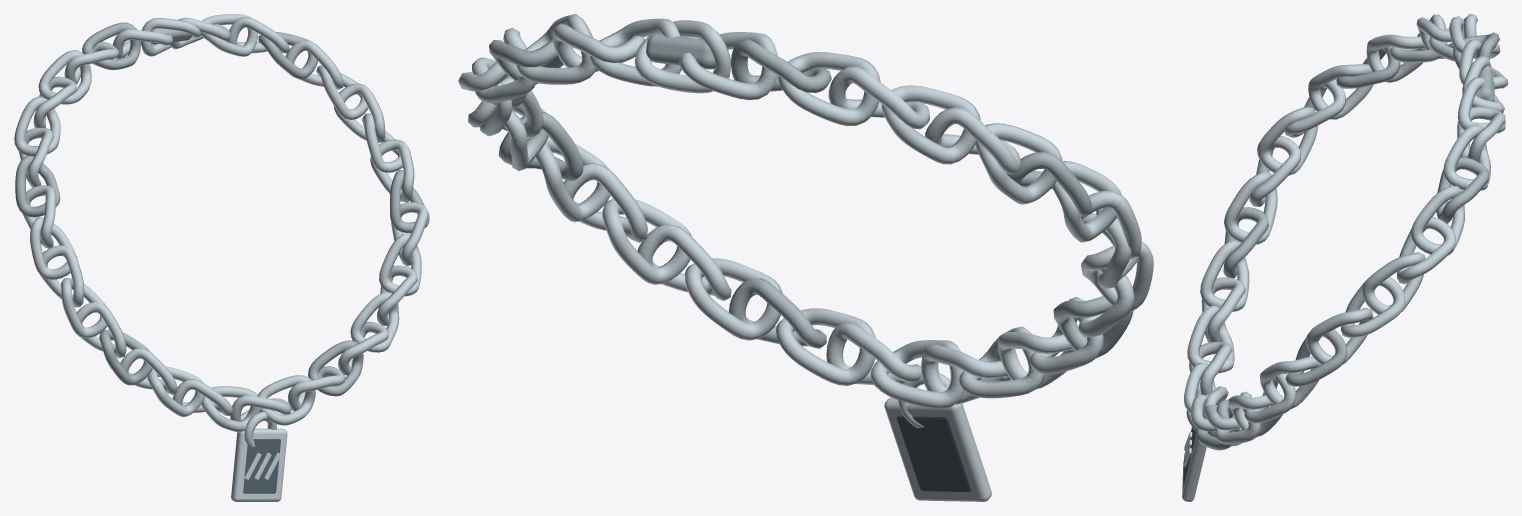
File: chain.glb
The picture shows the model from 3 angles, left to right: view 1: azimuth 30°, elevation 25°; view 2: azimuth 150°, elevation 25°; view 3: azimuth 270°, elevation 25°; orthographic projection. The views are drawn at different scales.
Parts seen in each view (by area): view 1: Polished nickel 40, Cast graphite titanium 41, Curb link 04, Curb link 02, Curb link 26, Curb link 30, Curb link 22, Curb link 28, Curb link 11, Curb link 24, Curb link 13, Curb link 34 (+28 smaller); view 2: Polished nickel 40, Cast graphite titanium 41, Curb link 23, Curb link 03, Curb link 25, Curb link 05, Curb link 07, Curb link 27, Curb link 20, Curb link 01, Curb link 24, Curb link 06 (+29 smaller); view 3: Curb link 31, Curb link 33, Curb link 12, Curb link 11, Curb link 29, Curb link 13, Curb link 14, Curb link 15, Curb link 35, Curb link 16, Curb link 10, Curb link 09 (+28 smaller).
Part boxes in pixels (left/top/right/bottom): Polished nickel 40: left=231, top=428, right=287, bottom=501; Cast graphite titanium 41: left=243, top=438, right=280, bottom=493; Curb link 04: left=308, top=340, right=363, bottom=396; Curb link 02: left=258, top=375, right=315, bottom=425; Curb link 26: left=14, top=96, right=60, bottom=156; Curb link 30: left=29, top=217, right=77, bottom=279; Curb link 22: left=82, top=22, right=140, bottom=70; Curb link 28: left=15, top=155, right=60, bottom=217; Curb link 11: left=370, top=139, right=414, bottom=202; Curb link 24: left=38, top=50, right=91, bottom=104; Curb link 13: left=333, top=83, right=385, bottom=142; Curb link 34: left=99, top=329, right=152, bottom=385; Polished nickel 40: left=884, top=397, right=991, bottom=501; Cast graphite titanium 41: left=897, top=416, right=971, bottom=492; Curb link 23: left=778, top=52, right=880, bottom=126; Curb link 03: left=776, top=308, right=875, bottom=385; Curb link 25: left=881, top=85, right=980, bottom=164; Curb link 05: left=685, top=258, right=782, bottom=340; Curb link 07: left=602, top=199, right=691, bottom=284; Curb link 27: left=975, top=123, right=1062, bottom=204; Curb link 20: left=634, top=20, right=731, bottom=93; Curb link 01: left=870, top=340, right=964, bottom=408; Curb link 24: left=828, top=66, right=929, bottom=129; Curb link 06: left=637, top=224, right=731, bottom=300; Curb link 31: left=1257, top=107, right=1317, bottom=175; Curb link 33: left=1224, top=171, right=1277, bottom=244; Curb link 12: left=1340, top=277, right=1405, bottom=337; Curb link 11: left=1306, top=307, right=1373, bottom=364; Curb link 29: left=1308, top=64, right=1373, bottom=119; Curb link 13: left=1362, top=252, right=1425, bottom=314; Curb link 14: left=1397, top=216, right=1455, bottom=284; Curb link 15: left=1411, top=186, right=1464, bottom=255; Curb link 35: left=1200, top=240, right=1249, bottom=311; Curb link 16: left=1436, top=157, right=1489, bottom=223; Curb link 10: left=1285, top=329, right=1347, bottom=386; Curb link 09: left=1260, top=356, right=1320, bottom=408.
Size of the model in its own units: 0.2128 by 0.2004 by 0.1318.
